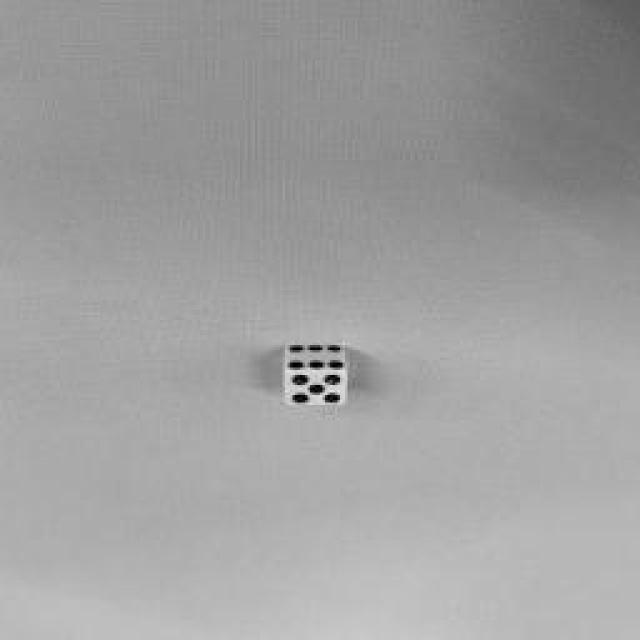dice_5: (285, 372, 347, 406)
